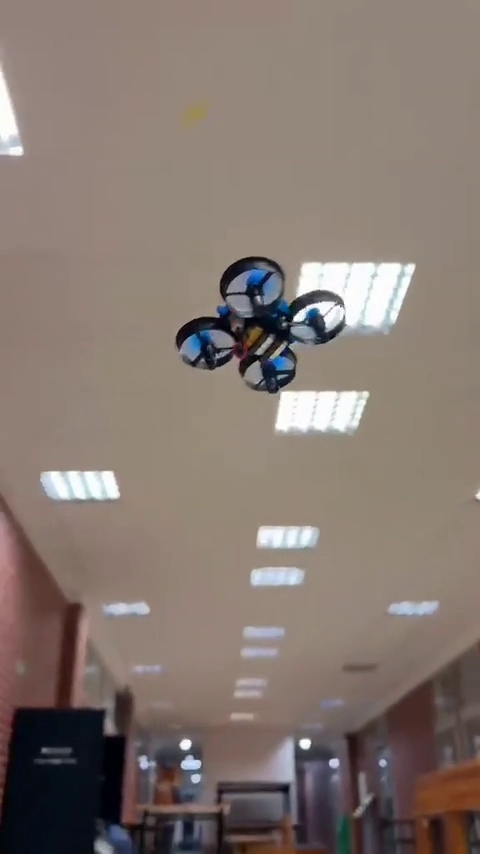drone: (164, 256, 343, 391)
